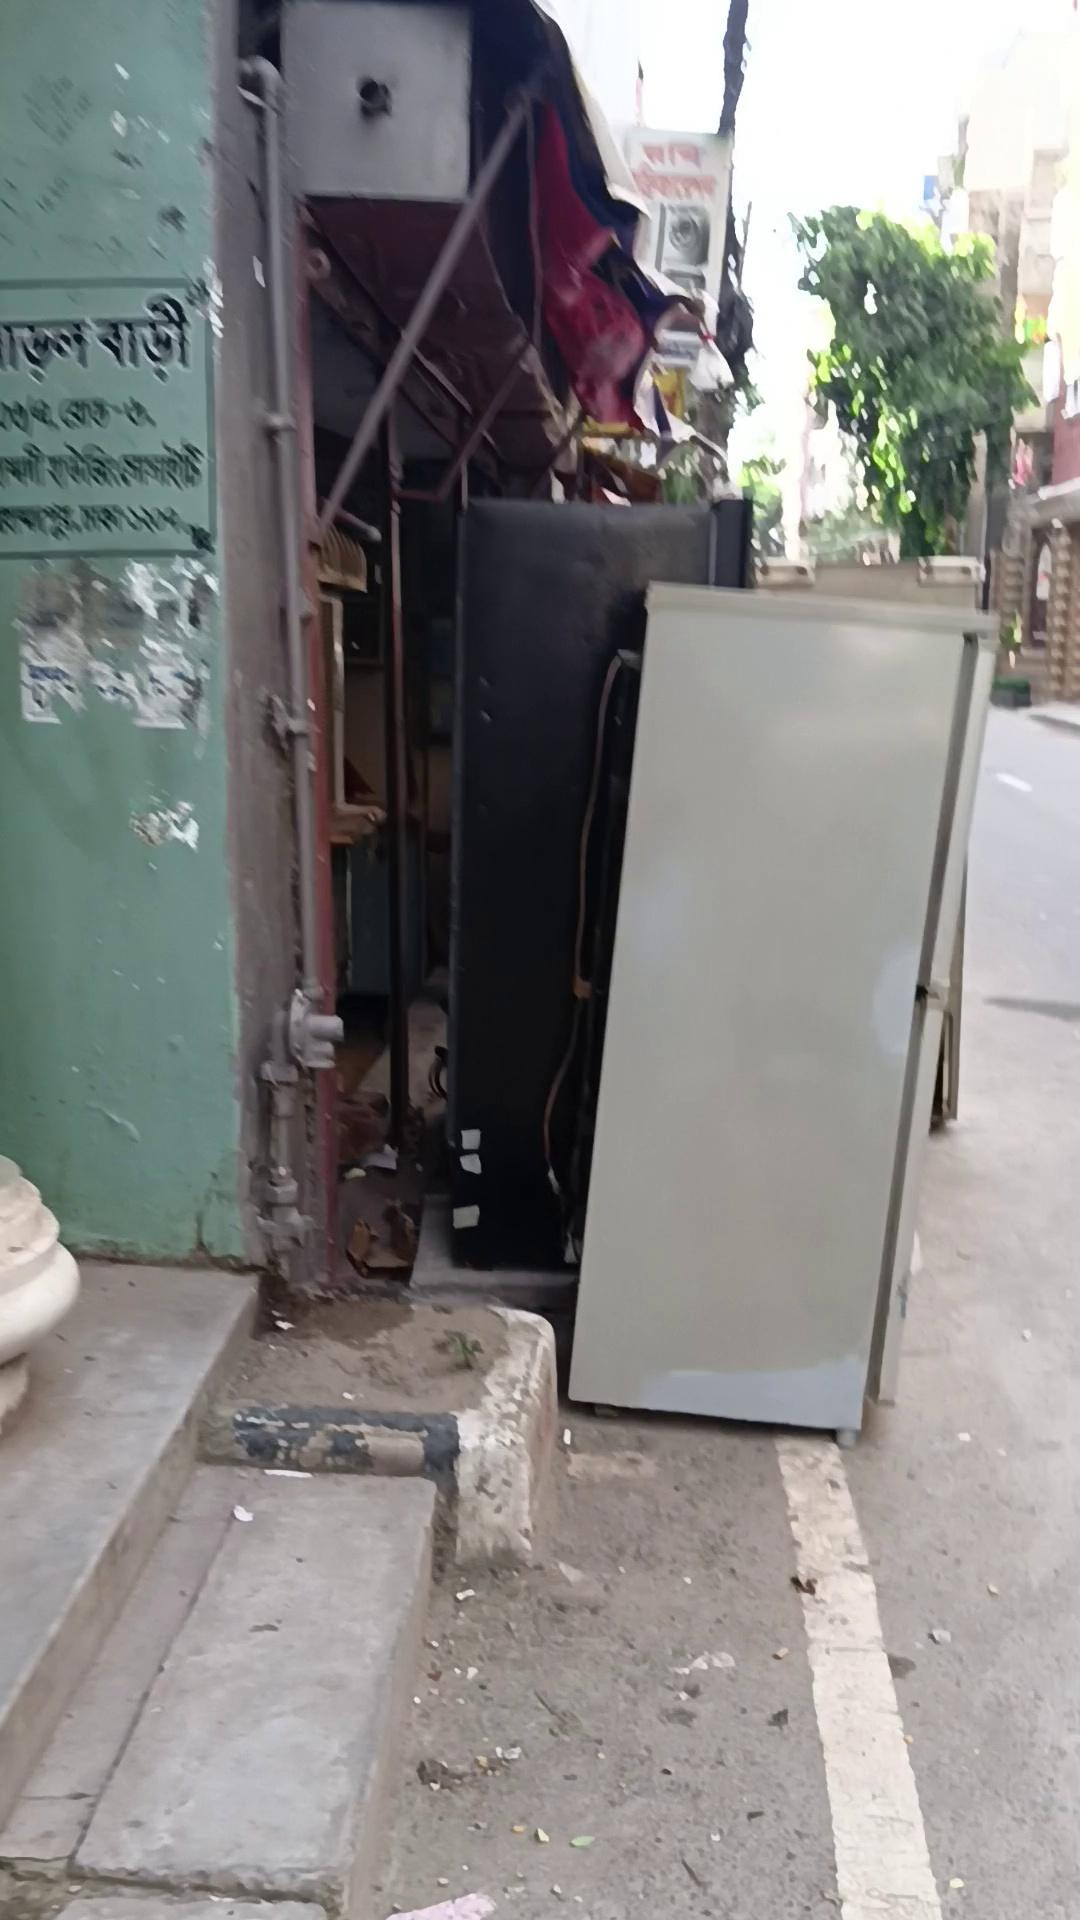Broken-road: (0, 1183, 460, 1920), (451, 1300, 559, 1565)
Crosswalk: (563, 562, 1001, 1443)
Garbage: (1, 1106, 794, 1917)
Light-pole: (785, 200, 1036, 563)
Obstacle: (1, 3, 255, 1267)
